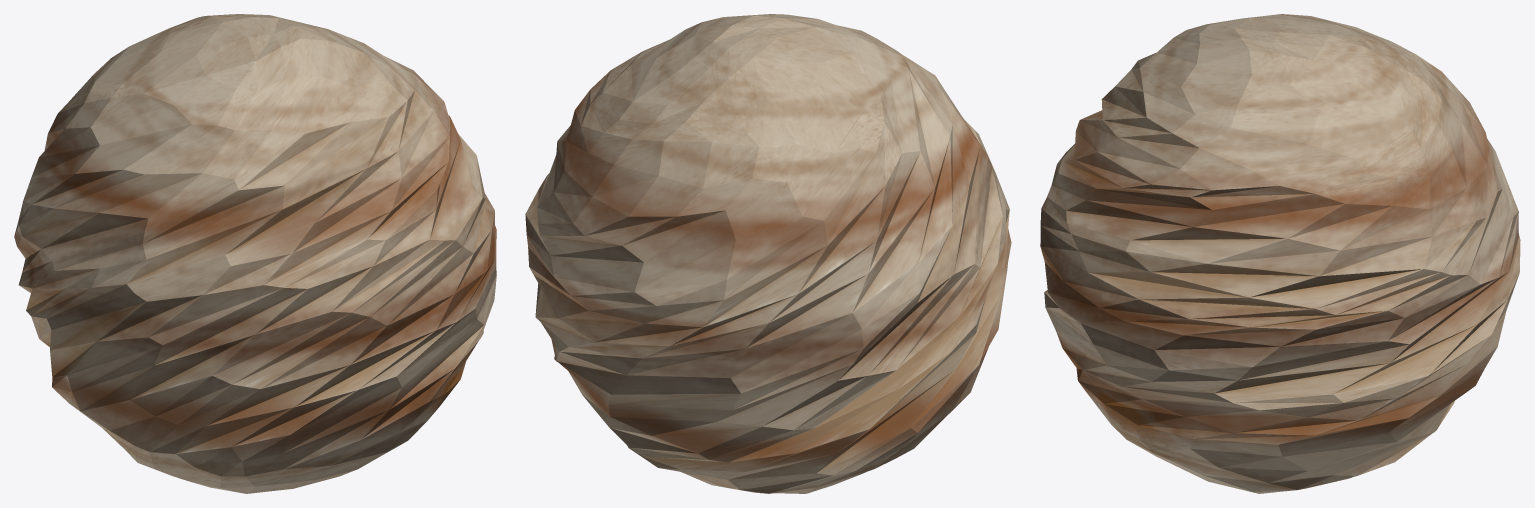
The picture shows the model from 3 angles, left to right: view 1: azimuth 30°, elevation 25°; view 2: azimuth 150°, elevation 25°; view 3: azimuth 270°, elevation 25°; orthographic projection.
Parts seen in each view (by area): view 1: pSolid4; view 2: pSolid4; view 3: pSolid4.
Boxes of the visible parts, bbox=[...] form: pSolid4: bbox=[14, 14, 496, 493]; pSolid4: bbox=[525, 14, 1011, 493]; pSolid4: bbox=[1040, 14, 1520, 493].
Bounding box in the file's own units: 2.09 × 2.08 × 2.09.
1 material, 1 textured.
